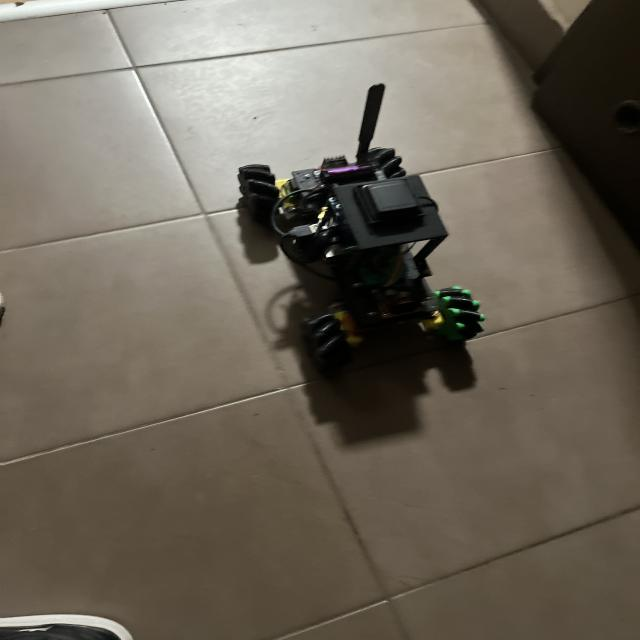robot: (238, 84, 485, 373)
